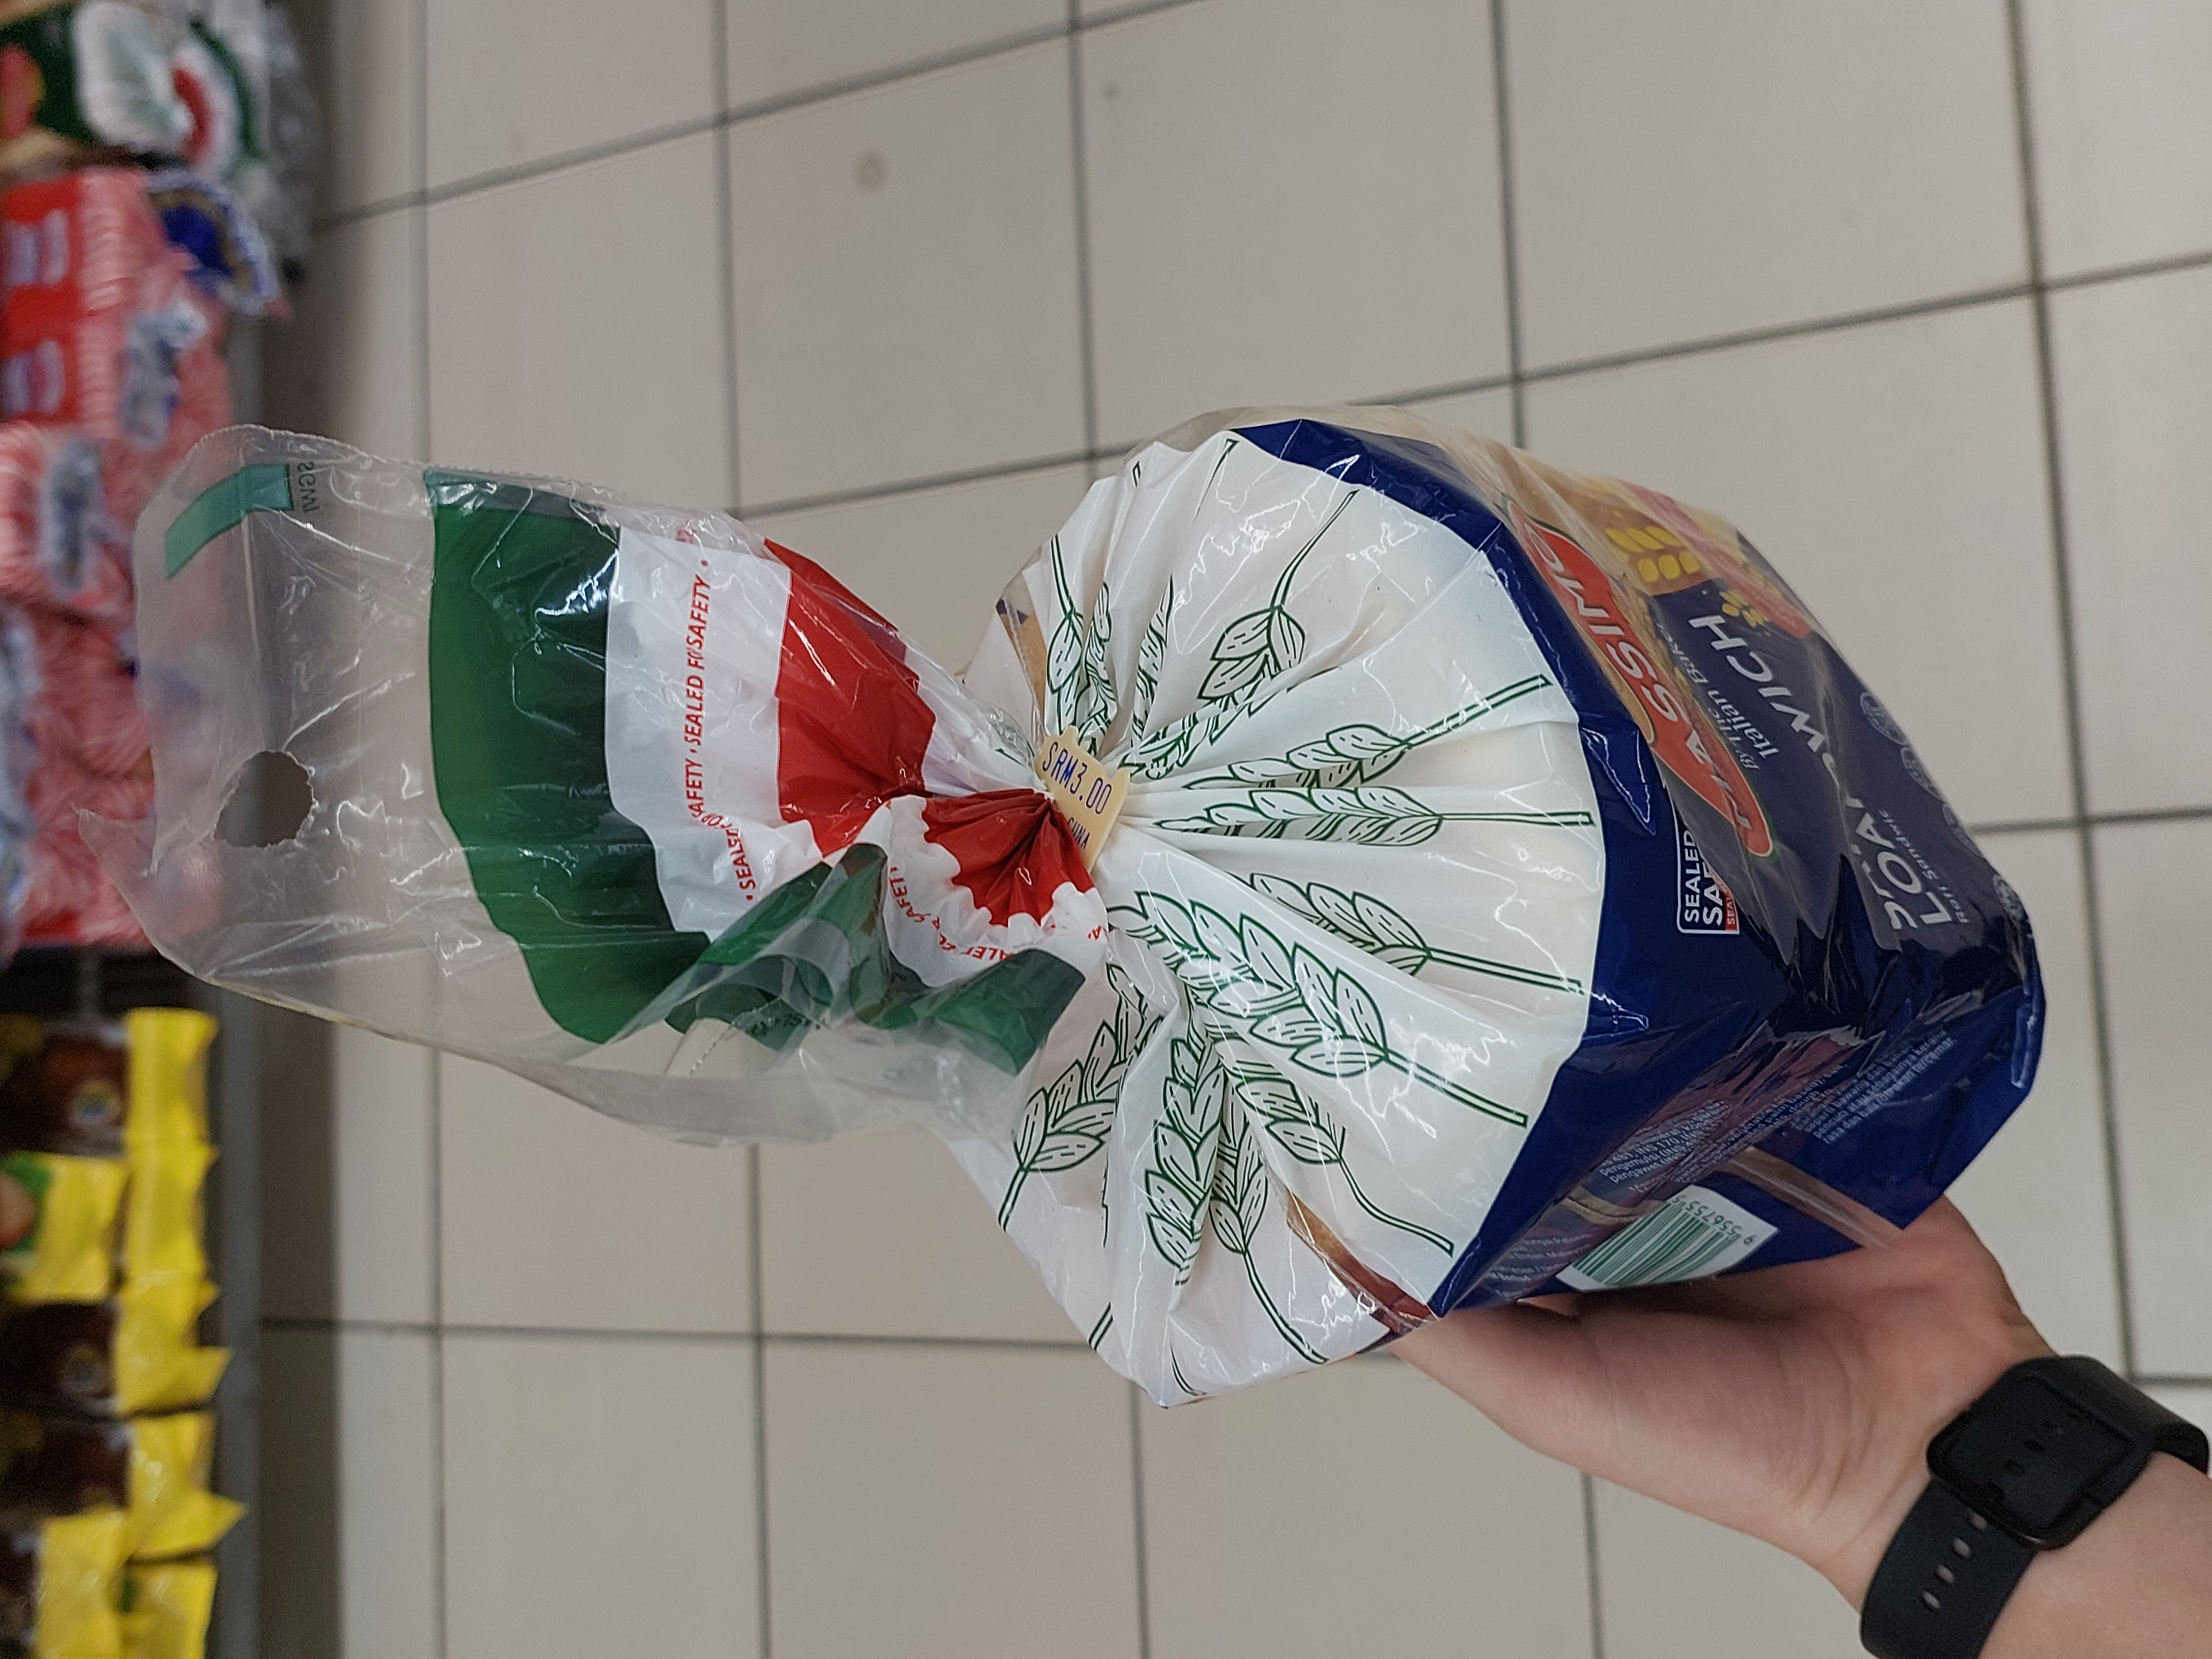bread: (425, 403, 2054, 1415)
